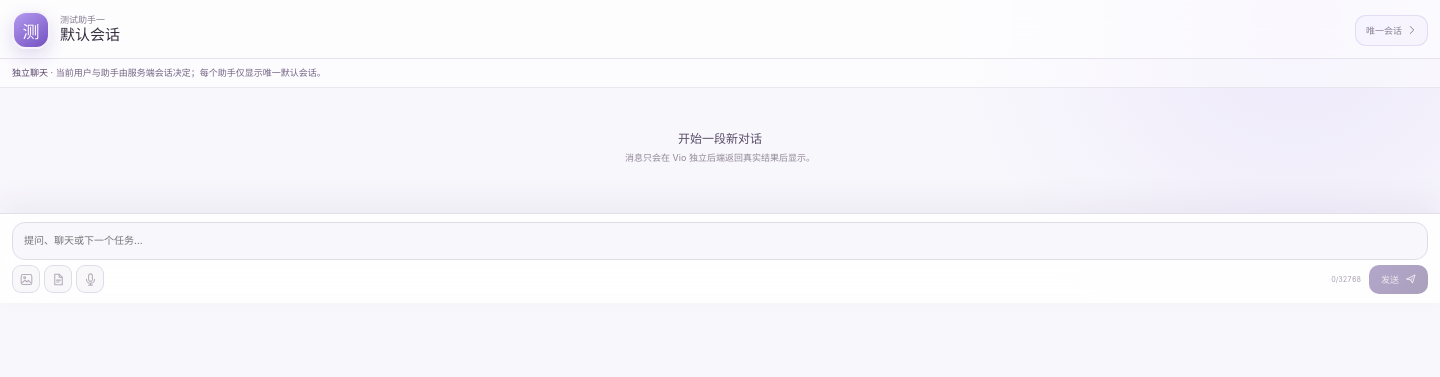
it: R1 personal standalone conversation page › reuses the same turn key only after a 404 proves a retry is safe
This screenshot has width=1440, height=377.
Expected: the text "开始一段新对话" is shown, [678,130,762,146]
Type "原消息" into the text box named "输入消息" at x=720, y=241, box [12,222,1428,260]
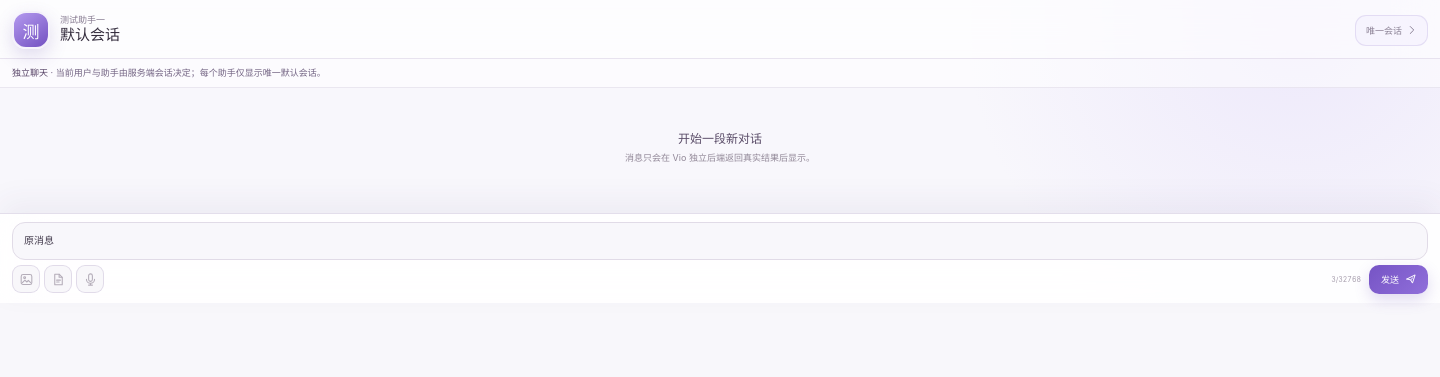
Click the button with aria-label "发送消息" at x=1398, y=279, box [1369,265,1428,294]
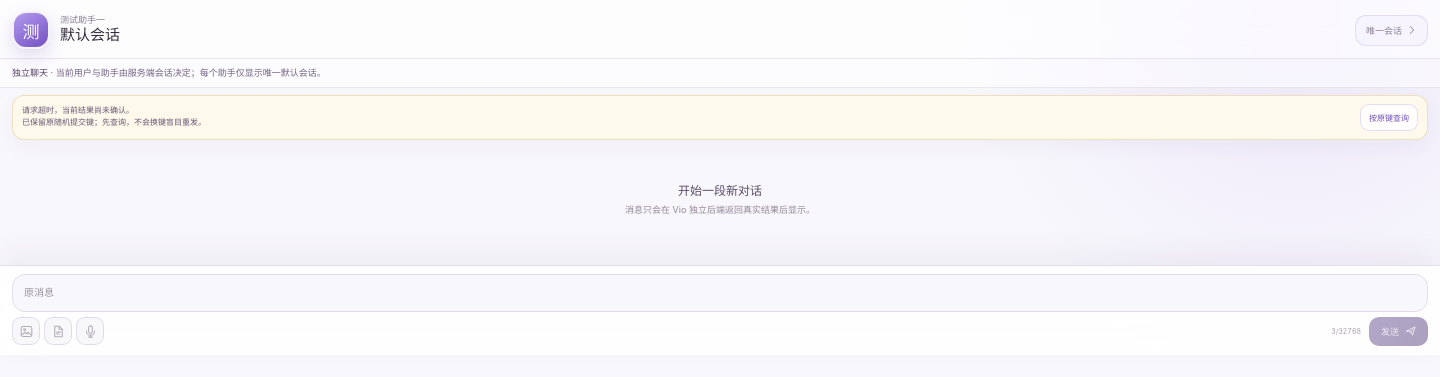
Result: the text "请求超时，当前结果尚未确认。" is shown at [22,105,134,115]
Click the button "按原键查询" at x=1389, y=117, box [1360,104,1418,130]
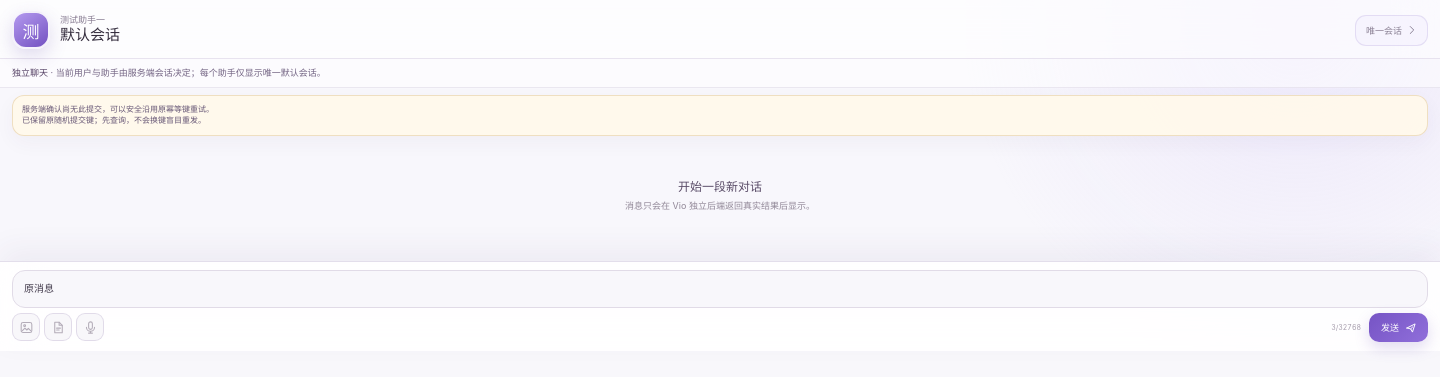
Result: the text "服务端确认尚无此提交，可以安全沿用原幂等键重试。" is shown at [22,104,214,115]
Click the button with aria-label "发送消息" at x=1398, y=328, box [1369,313,1428,342]
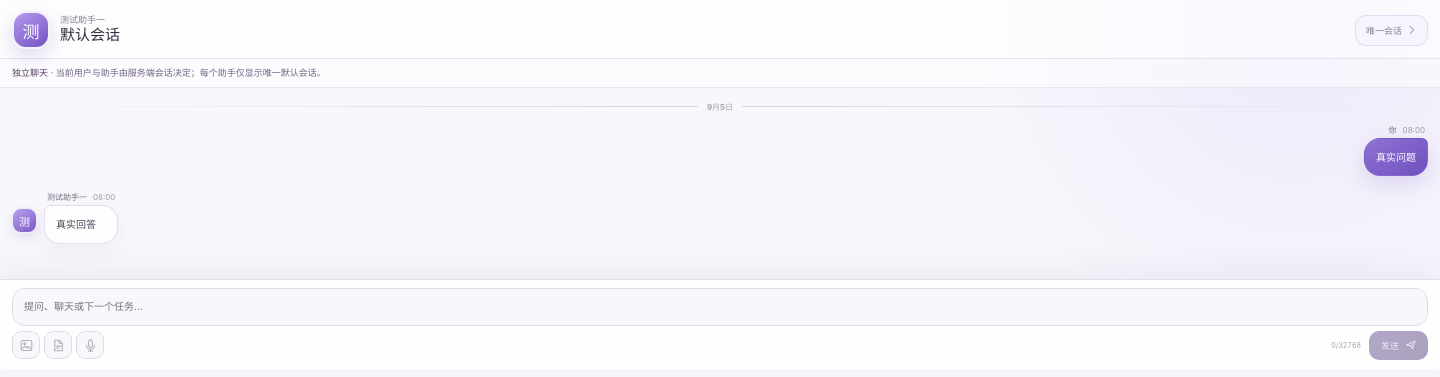
Result: the text "真实回答" is shown at [44,205,118,244]
